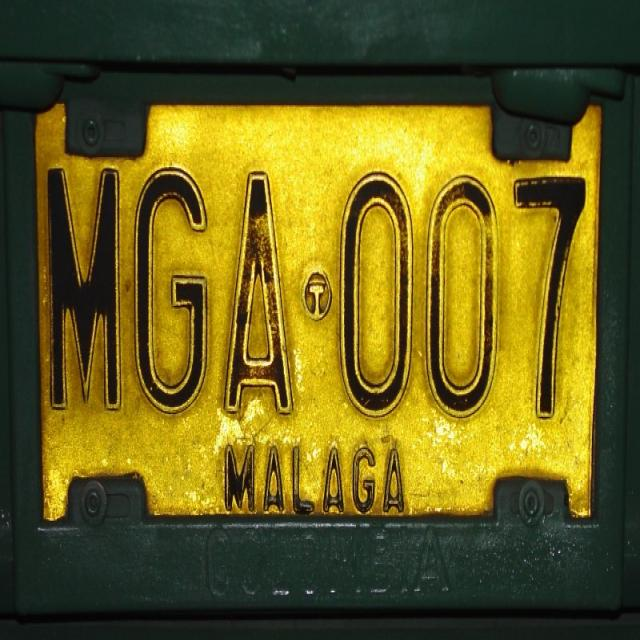placa: (24, 83, 609, 540)
